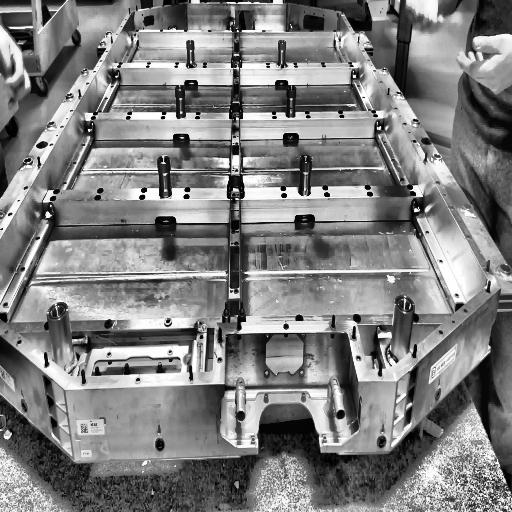b_casing: (0, 3, 512, 392)
